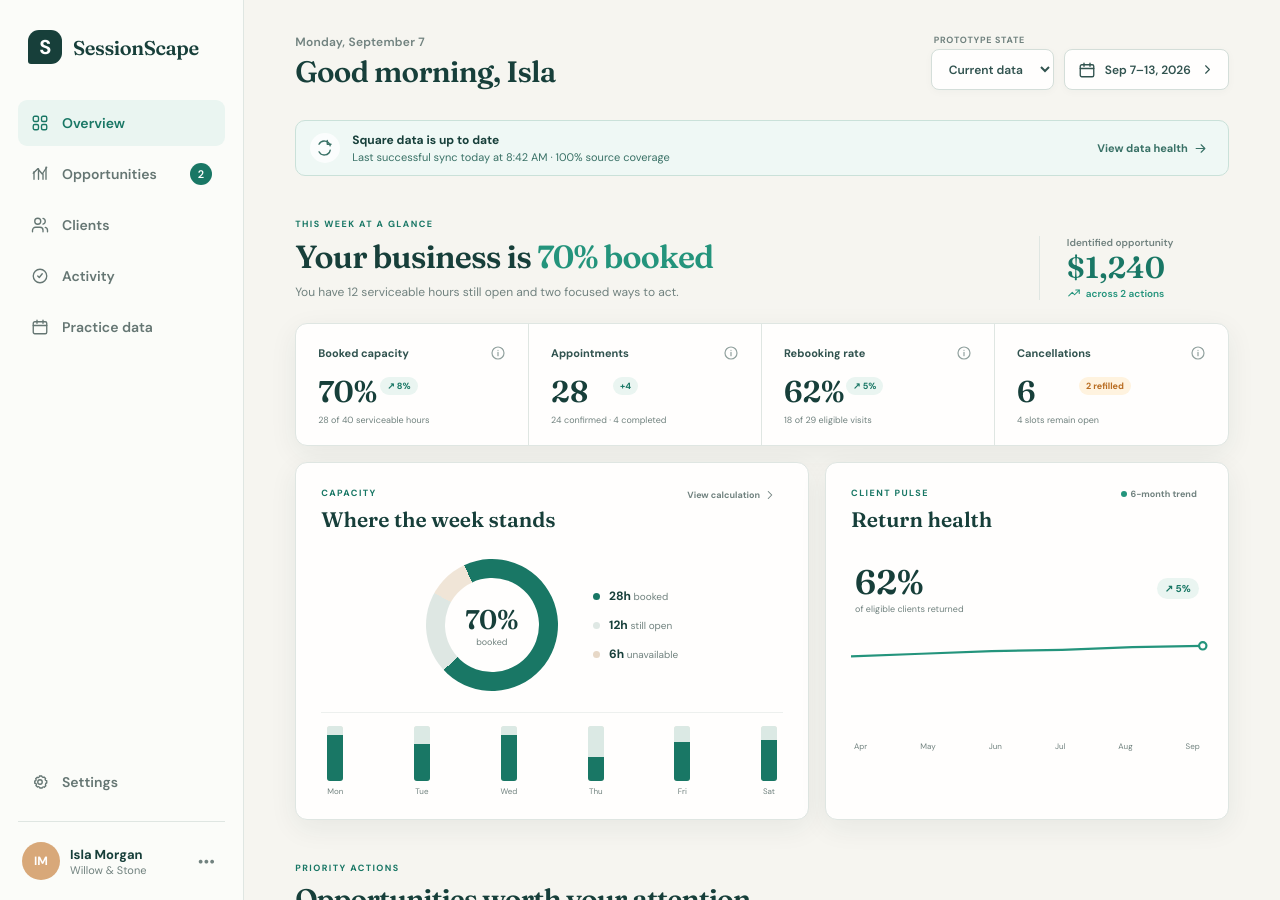
it: changes prototype state and opens a real recommendation
Expected: the picture named "Client return rate rose from 54% to 62% over six months" is shown, left=851, top=615, right=1203, bottom=745
Select "Partial data" in the dropdown labelled "Prototype state" at point(992, 70), box left=931, top=49, right=1054, bottom=90
(page scrolled)
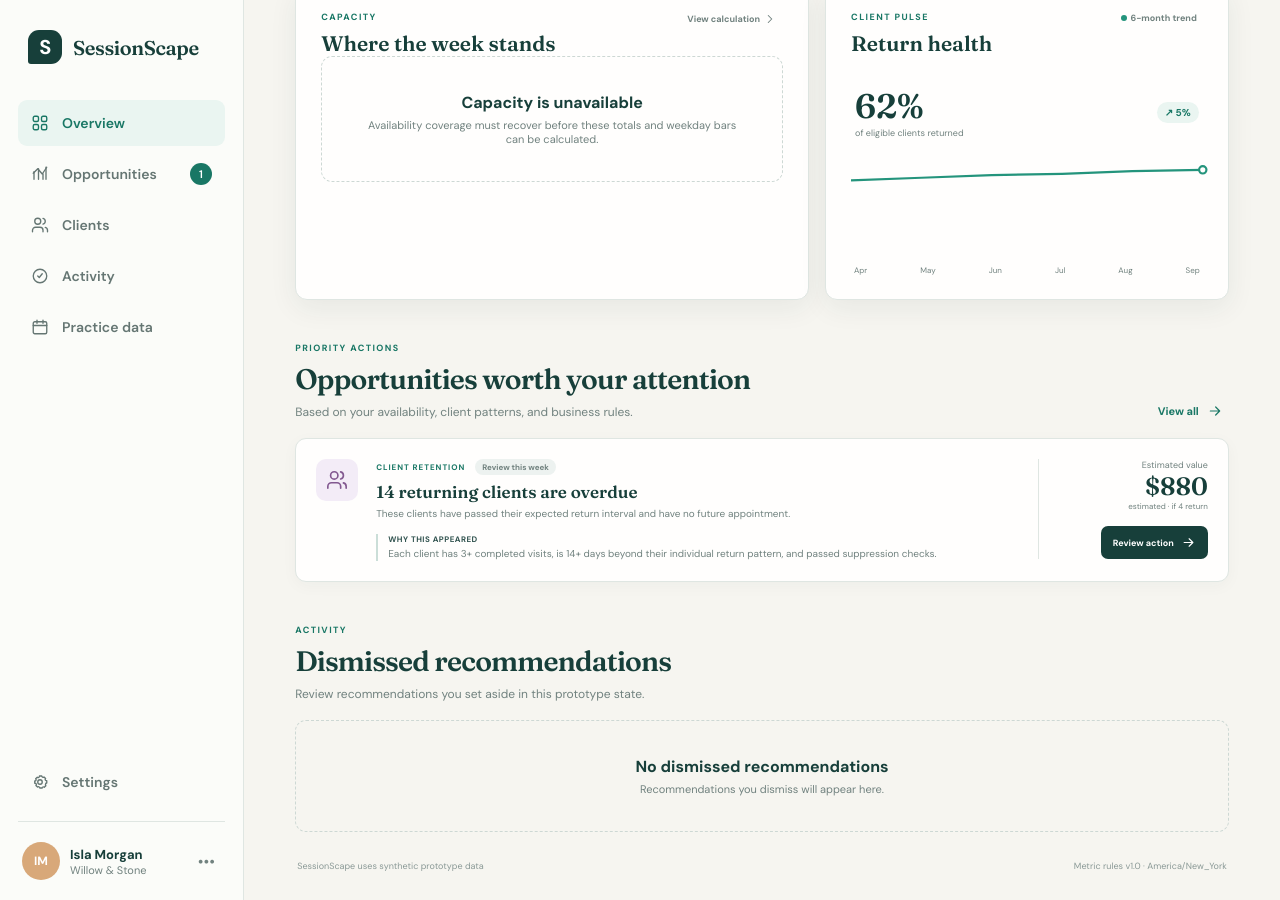
Result: the text "Capacity is unavailable" is shown at left=461, top=92, right=643, bottom=113
Click the button "Review action" at point(1154, 542), box left=1101, top=526, right=1208, bottom=559
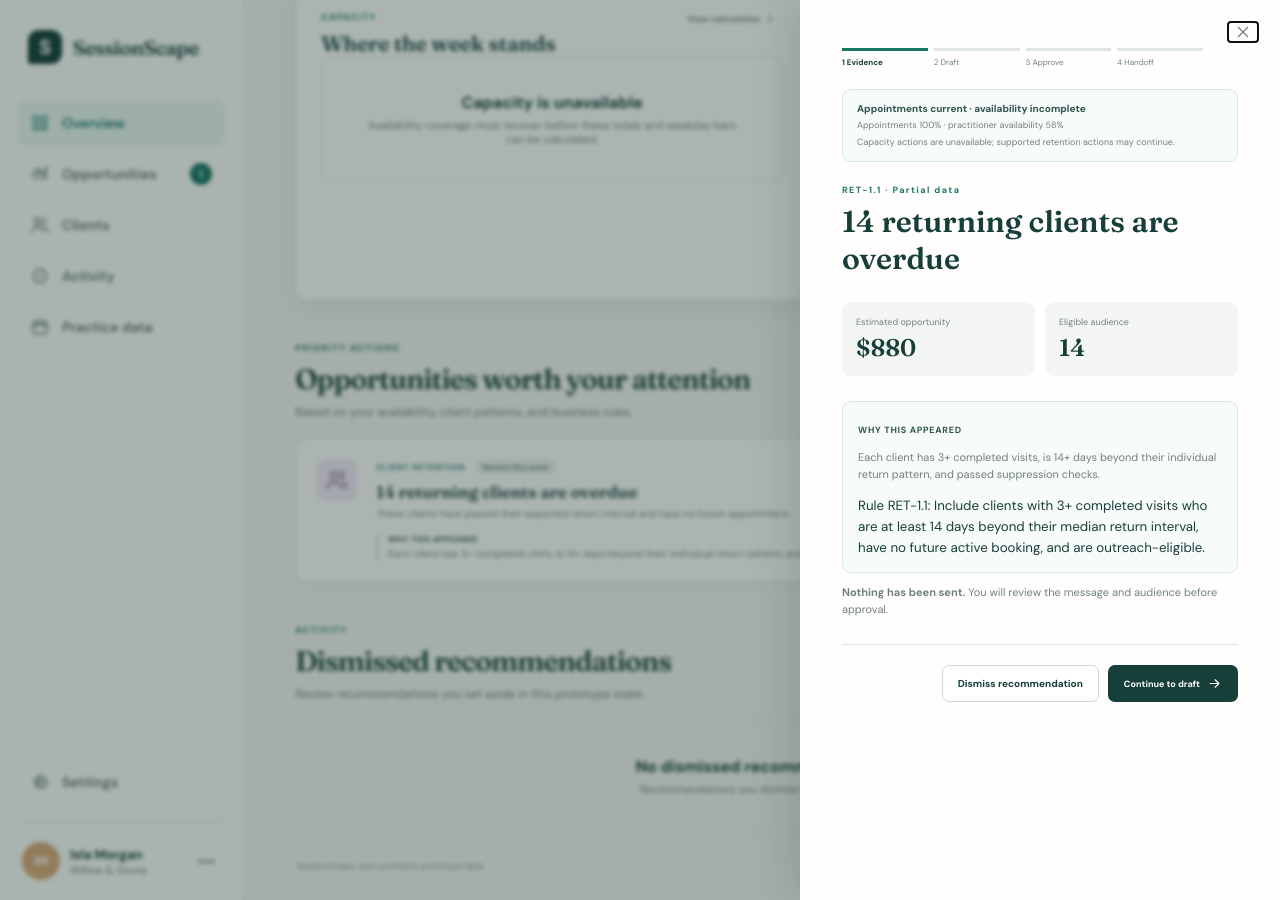
Result: the dialog named "14 returning clients are overdue" is shown at left=800, top=0, right=1279, bottom=899
